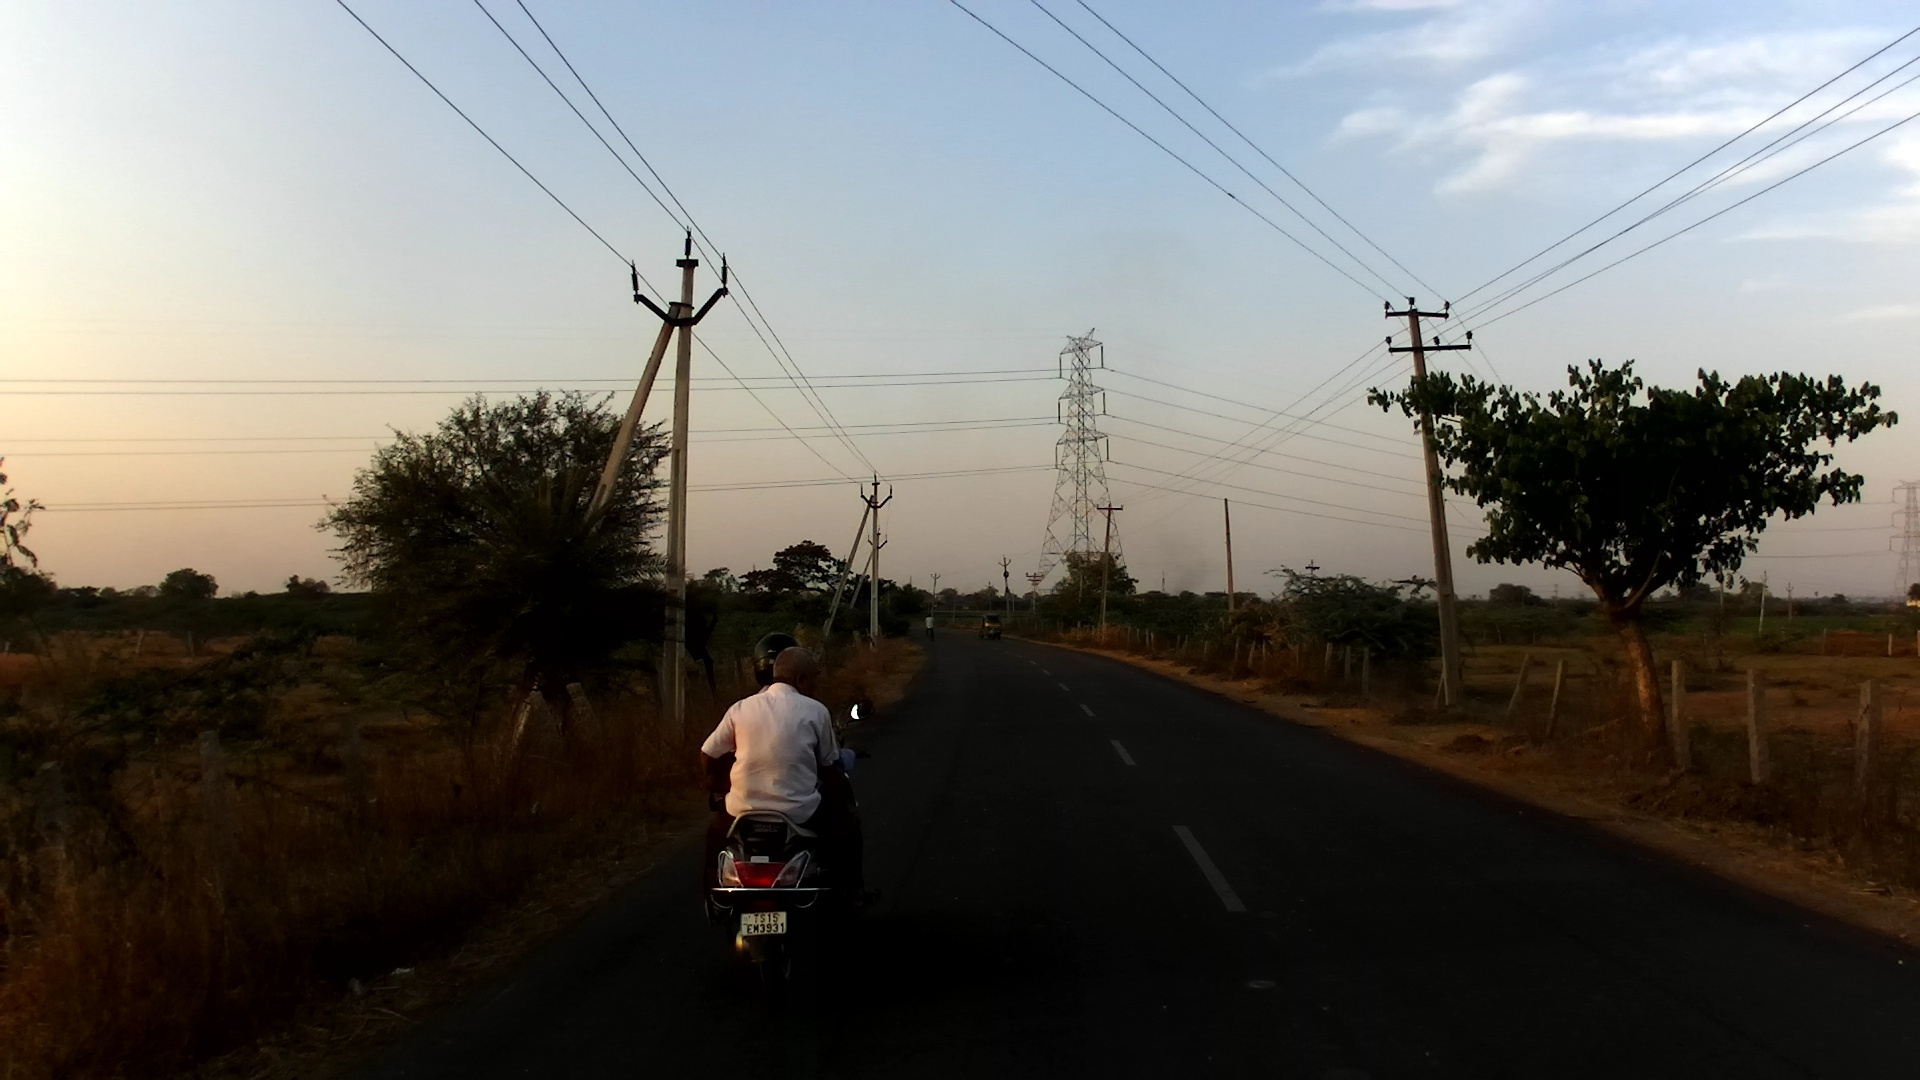autorickshaw: (978, 612, 1004, 641)
bicycle: (923, 621, 937, 648)
motorcycle: (700, 694, 887, 1013)
rider: (697, 645, 870, 916), (731, 629, 854, 846), (925, 609, 937, 644)
